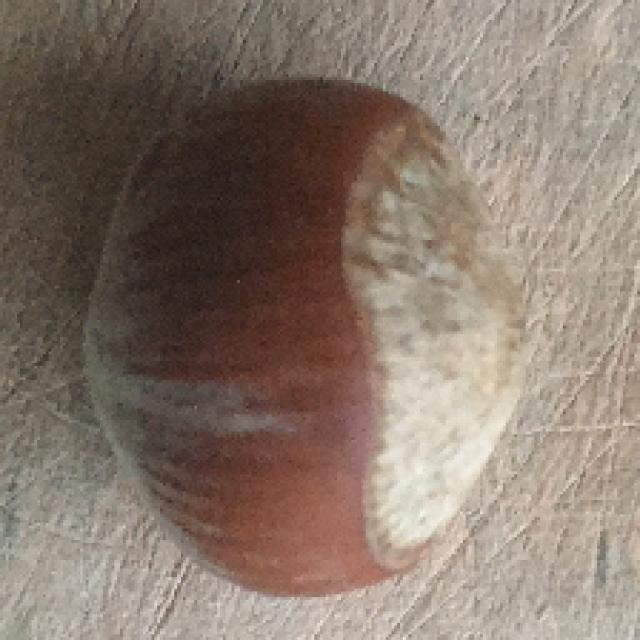QualityHazelnut: (84, 77, 529, 595)
